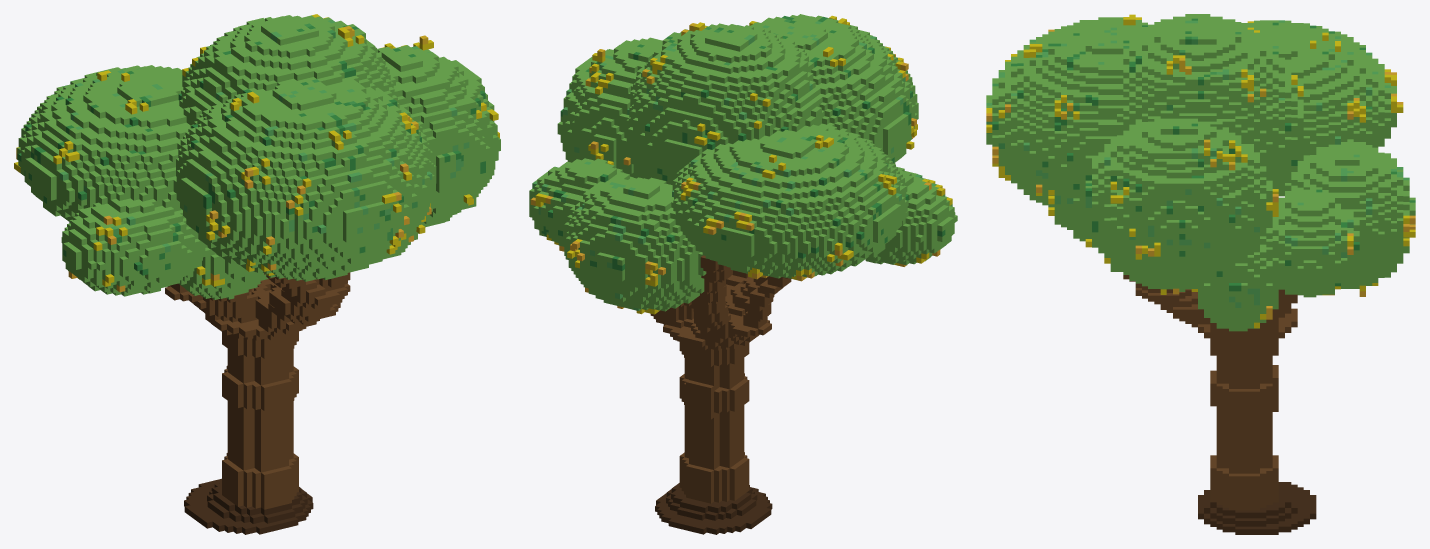
Rendered from 1_1 caja.obj.
The picture shows the model from 3 angles, left to right: view 1: azimuth 30°, elevation 25°; view 2: azimuth 150°, elevation 25°; view 3: azimuth 270°, elevation 25°; orthographic projection. The views are drawn at different scales.
Bounding box in the file's own units: 7.4 × 8.6 × 6.9.
1 material, 1 textured.
